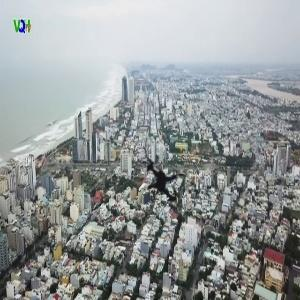drone: (118, 133, 210, 225)
